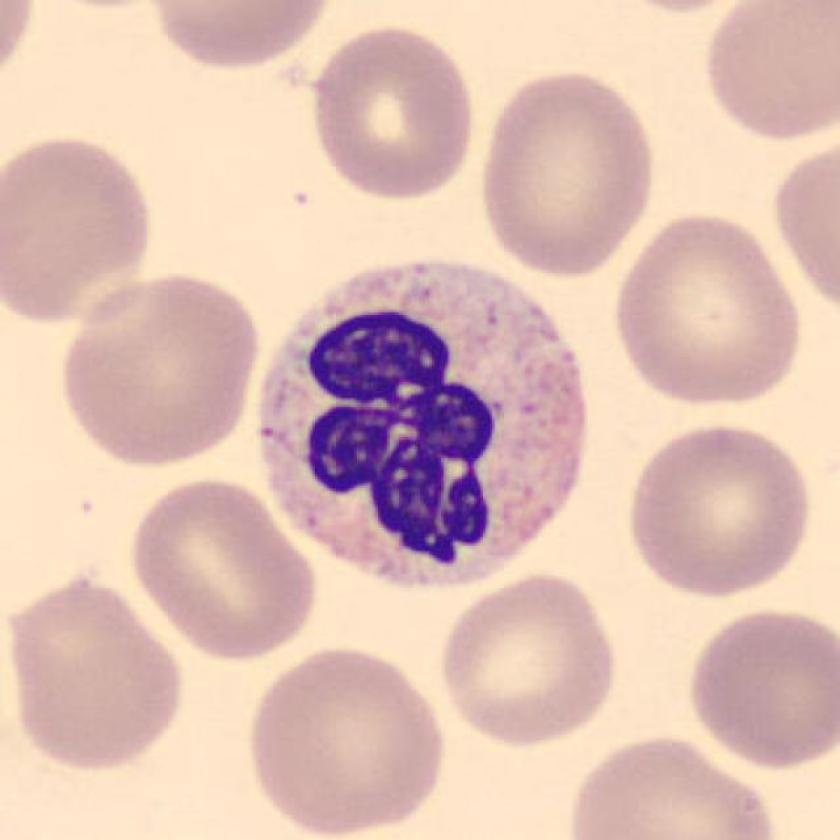neutrophil: (258, 261, 589, 590)
